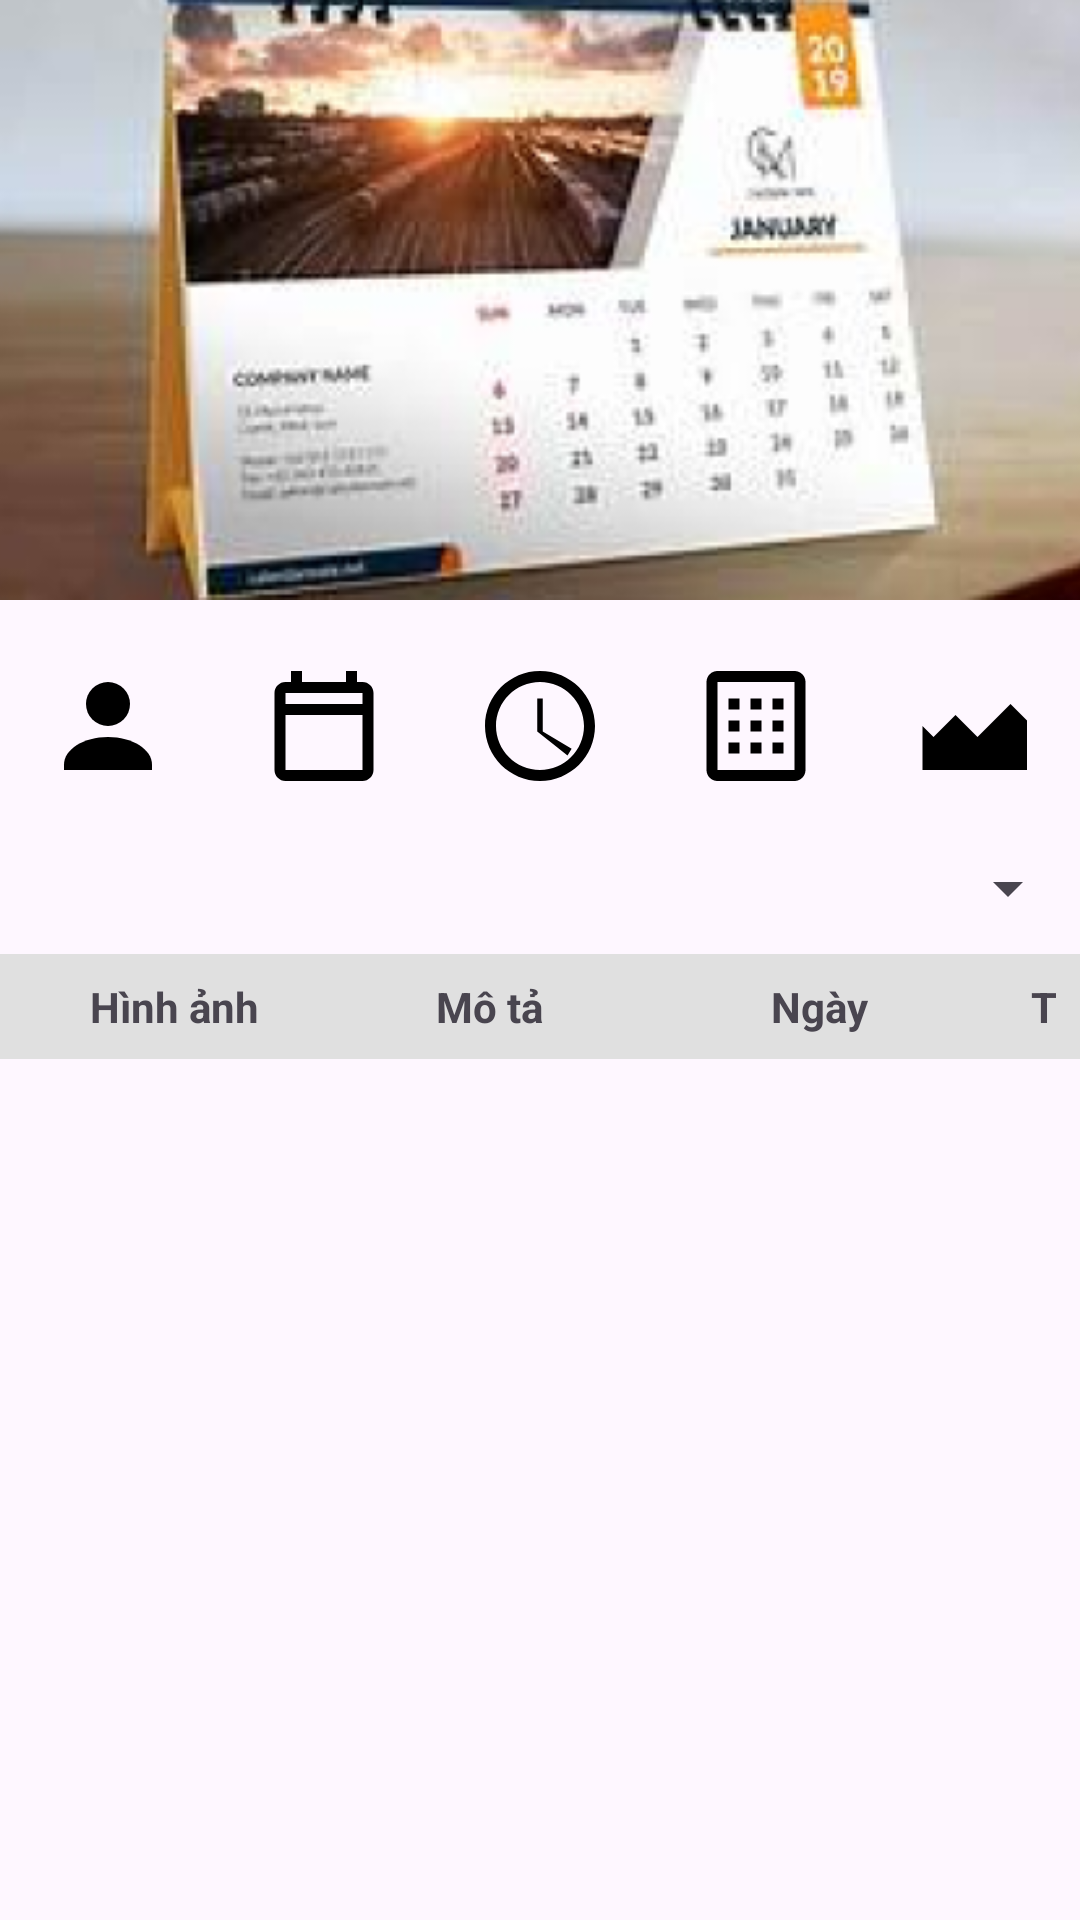

Where to tap for icons on this 1080 x 1920 app screen, as [x,y]:
date: [324,726]
schedule: [756,726]
statistic: [974,737]
time: [540,726]
user: [108,726]
